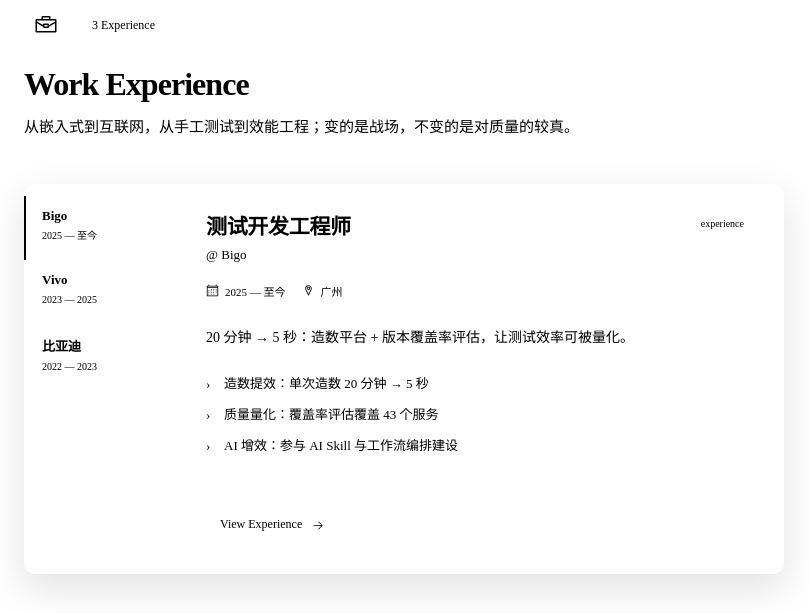
Test: my experience copy › switches to the Vivo card copy
Step 1. Click the tab "Vivo 2023 — 2025" → x=99, y=292, box [24,260,174,324]
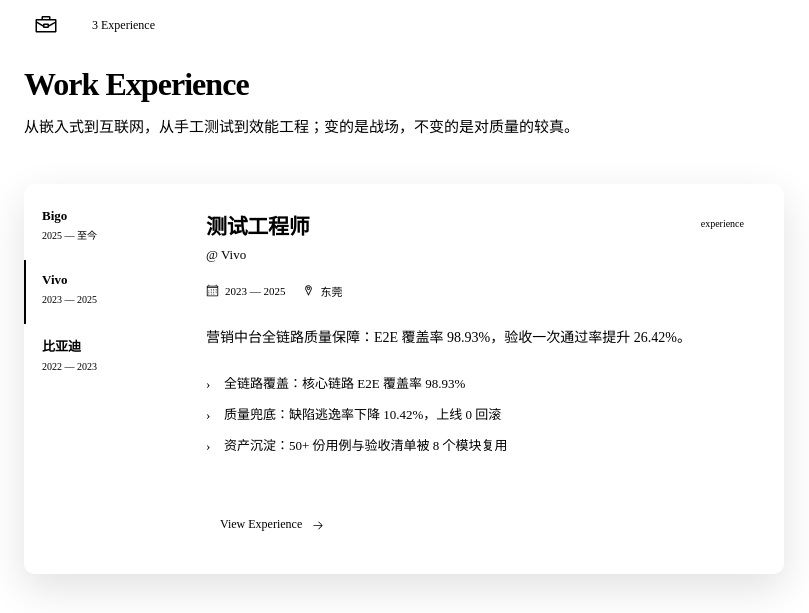
Expected: the text "营销中台全链路质量保障：E2E 覆盖率 98.93%，验收一次通过率提升 26.42%。" is shown, [206,330,691,345]
Expected: the list item "质量兜底：缺陷逃逸率下降 10.42%，上线 0 回滚" is shown, [224,407,501,422]
Expected: the text "东莞" is shown, [302,283,342,299]
